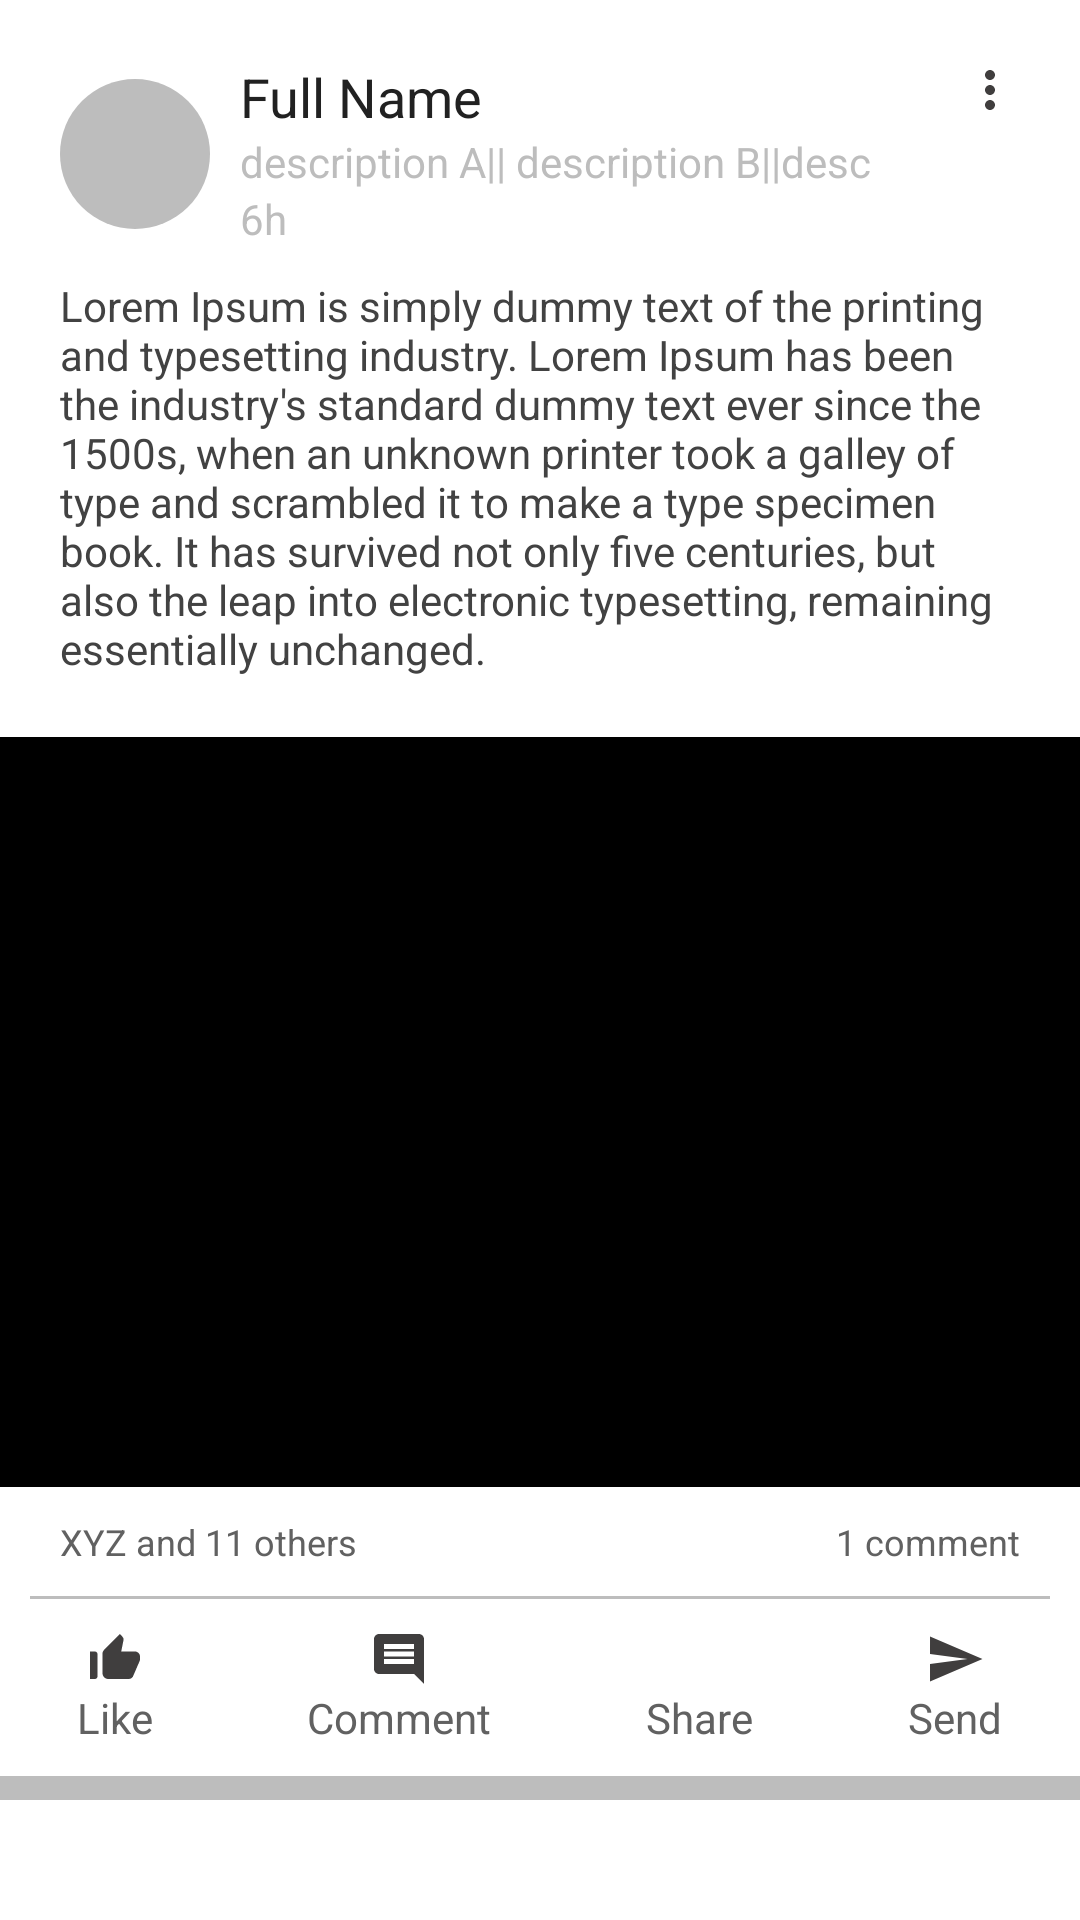

Icons on this 1080 × 1920 Android screen, each with the point to tap as point (x, y):
more vert: point (990, 90)
